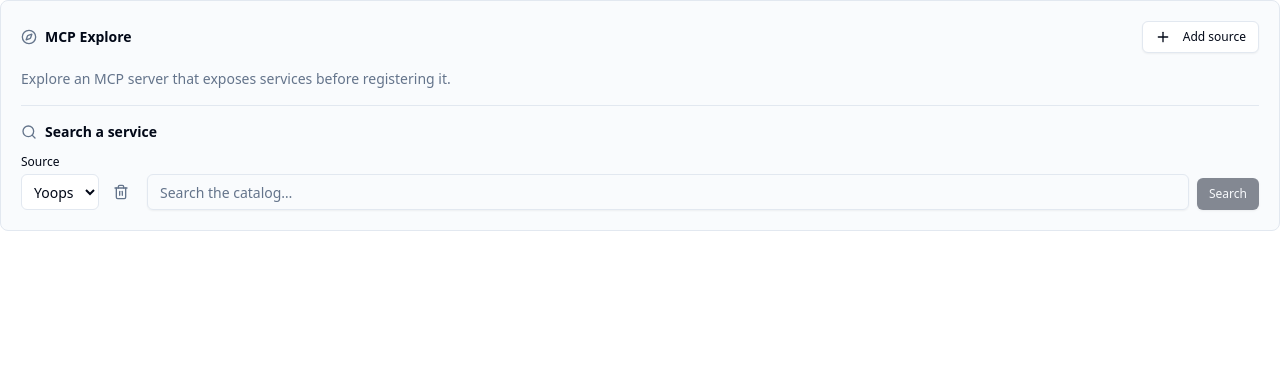
Scenario: MCPExplore › recherche dans une source et affiche les résultats
# La source unique est auto-sélectionnée dans le sélecteur.
Step 1. Type "git" into the field with placeholder "Search the catalog…" → {"x": 668, "y": 192}, box [147,174,1189,210]
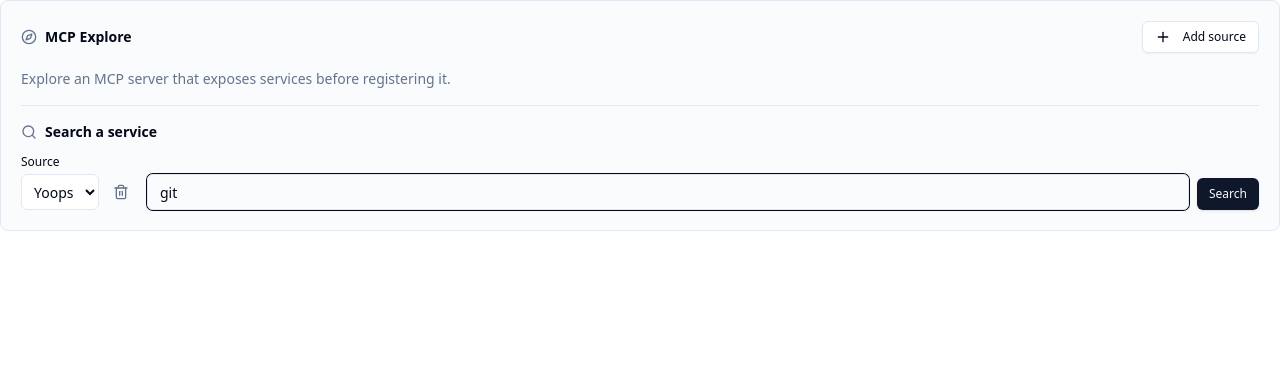
Step 2. Click the button "Search" → {"x": 1228, "y": 194}, box [1197,178,1259,210]
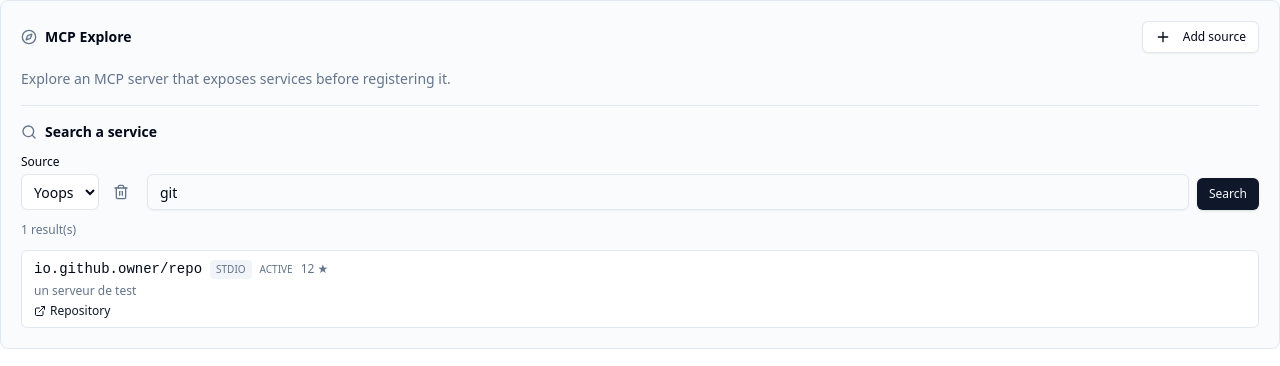
expect the text "io.github.owner/repo" is shown: met, box [34,259,202,279]
expect the text "un serveur de test" is shown: met, box [34,282,136,299]
expect the text "stdio" is shown: met, box [210,260,252,278]
